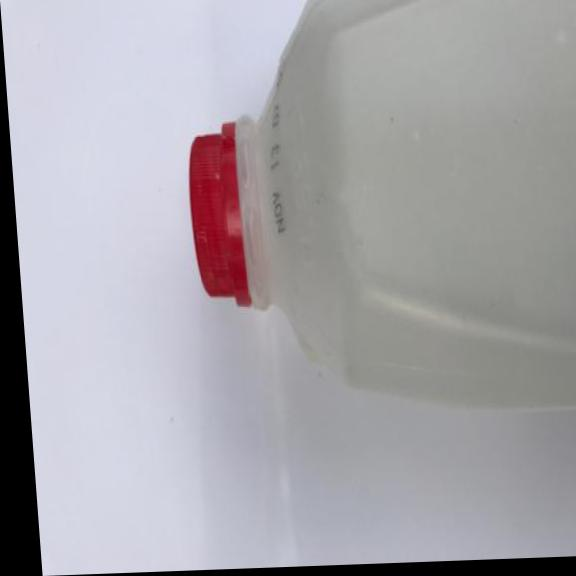Plastik: (166, 0, 576, 434)
